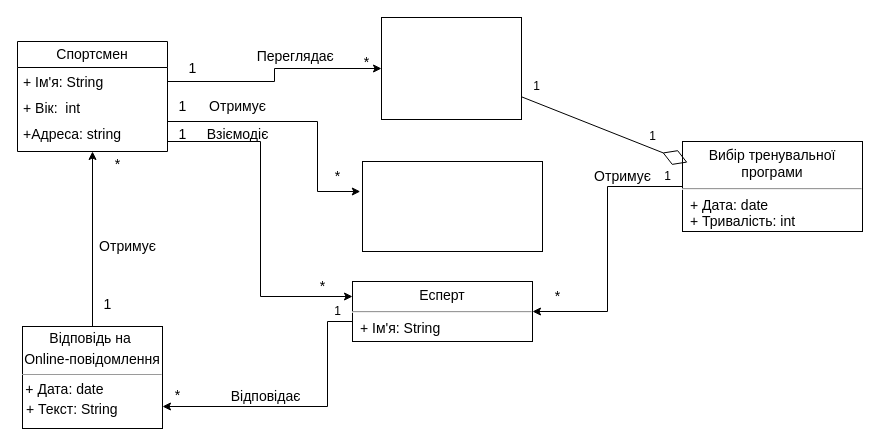
Image size: 880x446. Some labels were removed from this diagram. Each missing label, with the centre of its shape:
"Сповіщення про тренувальну програму + Дата: date + Статус: String" belongs at [452,206].
"Тренувальні програми + Назва: String + План: String" belongs at [451,68].
